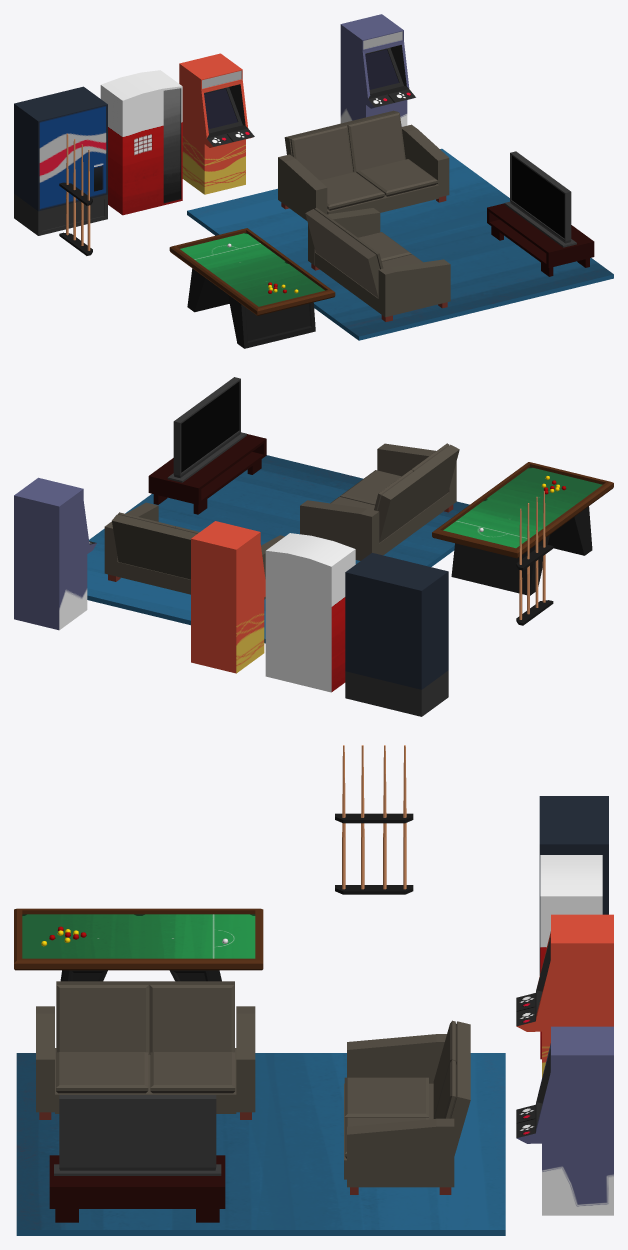
Rendered from RecreationalRoomInterior.FBX.
3 renders of one model, top to bottom at view 1: azimuth 30°, elevation 25°; view 2: azimuth 150°, elevation 25°; view 3: azimuth 270°, elevation 25°, orthographic. The views are drawn at different scales.
Parts seen in each view (by area): view 1: Carpet_001, Sofa_002, VendingMachine_001, PoolTable_001, VendingMachine_002, Sofa_001, ArcadeMachine_001, ArcadeMachine_002, TV_001, TVStand; view 2: VendingMachine_001, Carpet_001, PoolTable_001, VendingMachine_002, Sofa_001, ArcadeMachine_002, ArcadeMachine_001, Sofa_002, TV_001, TVStand; view 3: Carpet_001, Sofa_001, Sofa_002, PoolTable_001, ArcadeMachine_002, TV_001, ArcadeMachine_001, TVStand, VendingMachine_001, VendingMachine_002, CueRest_01, CueRest_02.
Part boxes in pixels (left/top/right/bottom): Carpet_001: left=187, top=148, right=613, bottom=340; Sofa_002: left=278, top=110, right=449, bottom=220; VendingMachine_001: left=14, top=86, right=107, bottom=235; PoolTable_001: left=169, top=228, right=335, bottom=348; VendingMachine_002: left=100, top=70, right=182, bottom=215; Sofa_001: left=305, top=207, right=450, bottom=321; ArcadeMachine_001: left=179, top=53, right=254, bottom=194; ArcadeMachine_002: left=340, top=14, right=415, bottom=126; TV_001: left=504, top=151, right=576, bottom=247; TVStand: left=487, top=203, right=594, bottom=276; VendingMachine_001: left=345, top=553, right=448, bottom=716; Carpet_001: left=87, top=455, right=469, bottom=643; PoolTable_001: left=432, top=462, right=613, bottom=595; VendingMachine_002: left=265, top=533, right=355, bottom=692; Sofa_001: left=300, top=443, right=459, bottom=560; ArcadeMachine_002: left=14, top=477, right=96, bottom=630; ArcadeMachine_001: left=191, top=521, right=265, bottom=673; Sofa_002: left=104, top=502, right=284, bottom=599; TV_001: left=167, top=377, right=246, bottom=482; TVStand: left=148, top=434, right=266, bottom=514; Carpet_001: left=16, top=1053, right=505, bottom=1235; Sofa_001: left=36, top=981, right=255, bottom=1119; Sofa_002: left=344, top=1020, right=470, bottom=1194; PoolTable_001: left=14, top=908, right=263, bottom=981; ArcadeMachine_002: left=516, top=1026, right=613, bottom=1215; TV_001: left=54, top=1095, right=221, bottom=1175; ArcadeMachine_001: left=516, top=914, right=613, bottom=1077; TVStand: left=49, top=1155, right=225, bottom=1222; VendingMachine_001: left=539, top=796, right=608, bottom=975; VendingMachine_002: left=540, top=855, right=602, bottom=1059; CueRest_01: left=335, top=813, right=413, bottom=823; CueRest_02: left=335, top=885, right=413, bottom=894.
Size of the model in its own units: 381 by 127 by 335.
14 materials, 8 textured.
